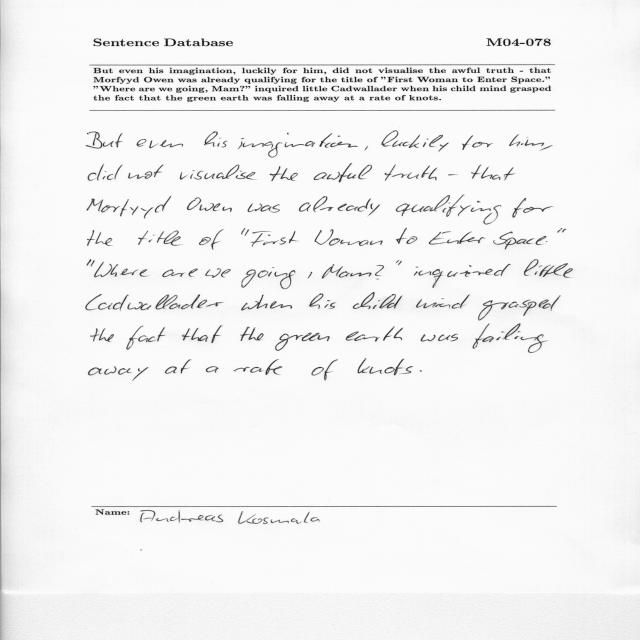word: (396, 195, 501, 224), (238, 133, 358, 158), (86, 294, 224, 311), (415, 264, 511, 288), (473, 324, 548, 353), (478, 296, 561, 321), (87, 197, 171, 219), (299, 196, 380, 216), (382, 131, 450, 152), (241, 267, 295, 289), (314, 229, 383, 246), (180, 165, 255, 180), (314, 164, 372, 183), (493, 232, 548, 250), (275, 333, 330, 351), (358, 359, 414, 376), (126, 326, 165, 350), (322, 264, 384, 279), (89, 366, 149, 381), (385, 164, 437, 181), (524, 260, 573, 278), (346, 327, 403, 342), (353, 292, 402, 309), (512, 198, 553, 218), (241, 295, 292, 311), (94, 262, 148, 277), (416, 294, 470, 309), (234, 359, 282, 375), (429, 232, 486, 245), (182, 325, 223, 343), (251, 231, 297, 247), (138, 230, 181, 246), (187, 197, 232, 212), (471, 165, 515, 180), (86, 132, 123, 149), (88, 164, 123, 181), (312, 360, 338, 381), (128, 164, 163, 179), (199, 229, 223, 250), (462, 135, 492, 150), (137, 139, 184, 148), (509, 134, 544, 146), (270, 166, 298, 181), (308, 294, 336, 309), (165, 359, 192, 374), (88, 230, 113, 246), (204, 132, 227, 148), (396, 228, 417, 244), (247, 203, 280, 213), (91, 328, 114, 342), (241, 327, 264, 341), (421, 334, 458, 342), (162, 269, 198, 277), (205, 268, 231, 278), (206, 366, 218, 373), (241, 228, 250, 236), (87, 259, 95, 267), (541, 146, 553, 151), (396, 260, 402, 265), (558, 228, 563, 233), (308, 272, 312, 278), (414, 271, 418, 276), (448, 174, 457, 176), (563, 229, 567, 233), (365, 146, 368, 151), (420, 370, 422, 372)
